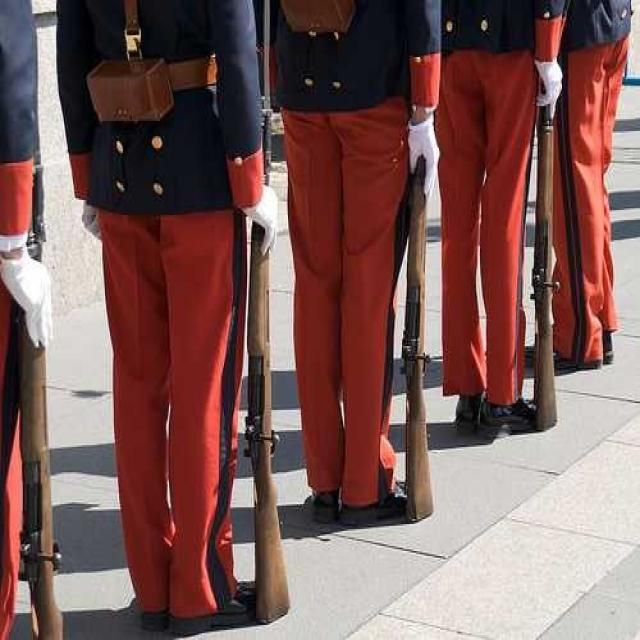heavyweapon: (237, 105, 320, 621), (13, 194, 82, 640), (400, 88, 454, 532), (531, 70, 579, 439)
